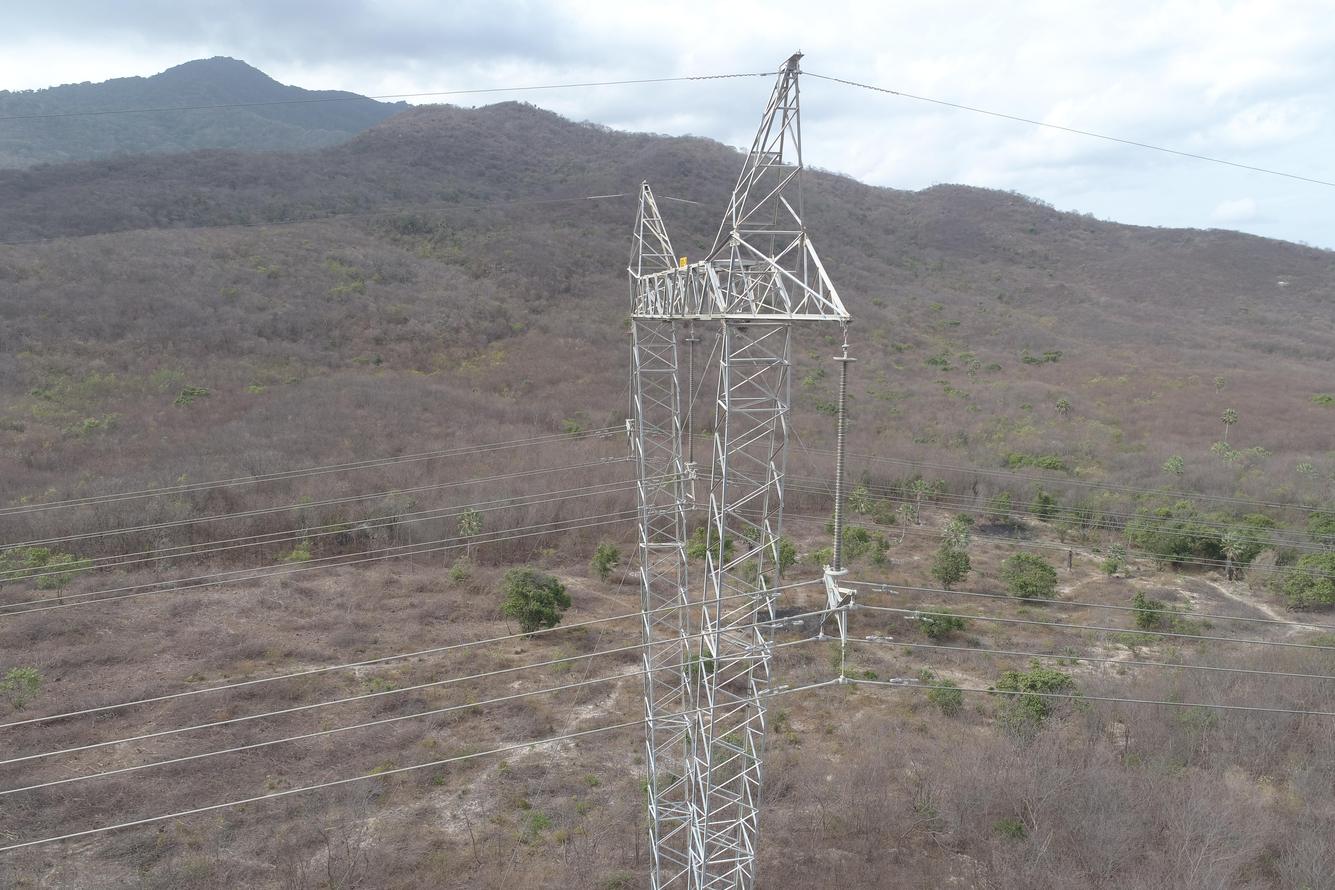power_tower: (624, 47, 858, 890)
